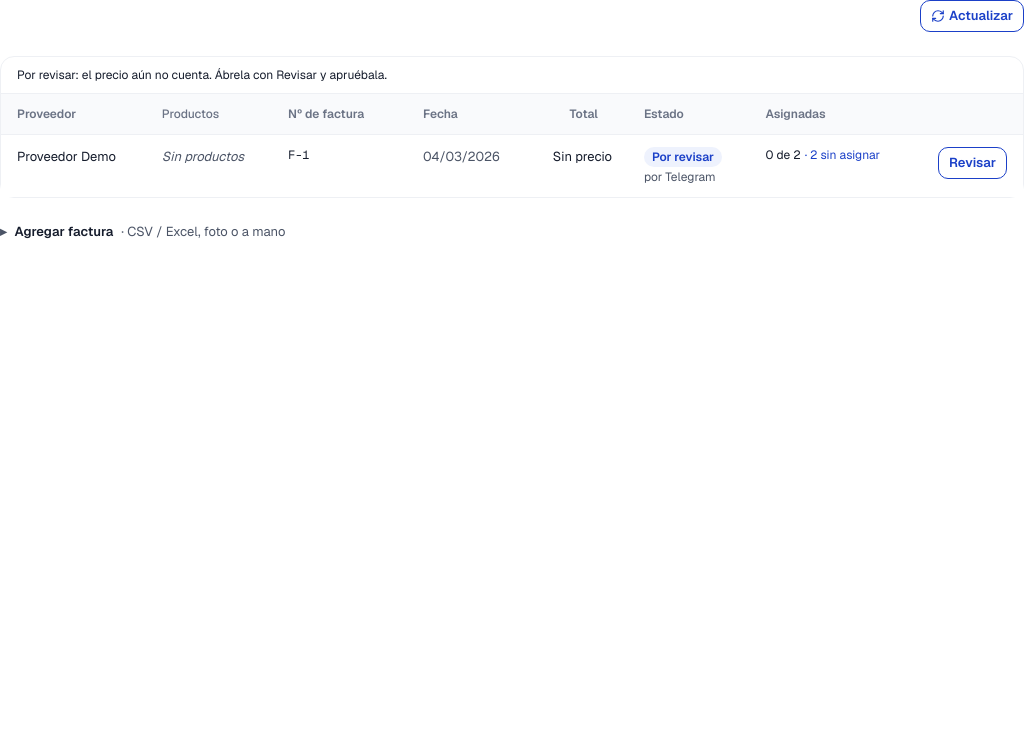
Test case: Compras: Telegram invoices › detail shows notes, badges, Sin precio and no fake total
The image size is (1024, 742).
Click the button "Revisar" at [973, 163], box [938,147,1007,179]
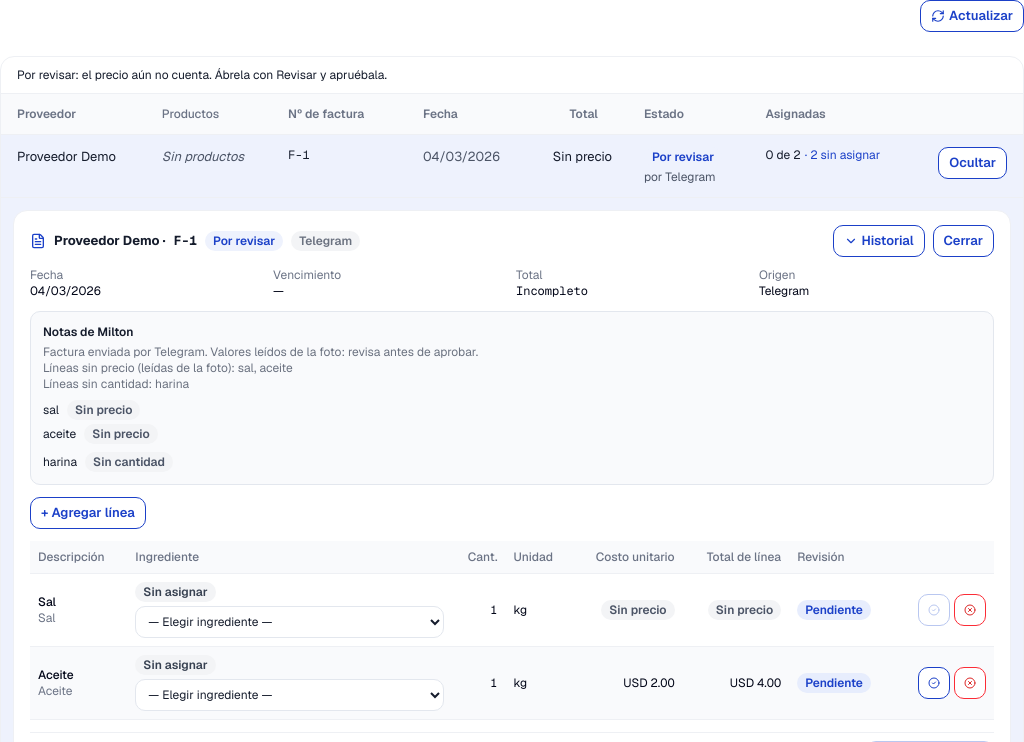
Result: the text "Notas de Milton" is shown at [43,324,133,340]
Result: the element with test id "milton-notes" shows "Líneas sin precio (leídas de la foto): sal, aceite" at [43,344,478,392]
Result: the text "Sin cantidad" is shown once at [85,452,173,472]
